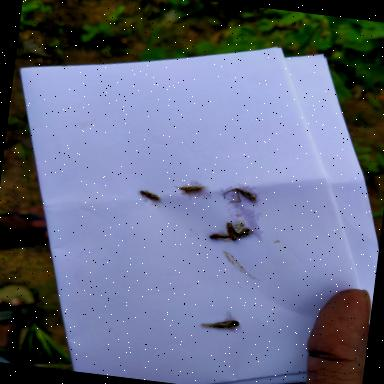pbw: (210, 317, 240, 330), (205, 231, 232, 242), (224, 222, 239, 240), (138, 188, 160, 200), (237, 188, 256, 201), (174, 183, 198, 192), (184, 186, 200, 194)
